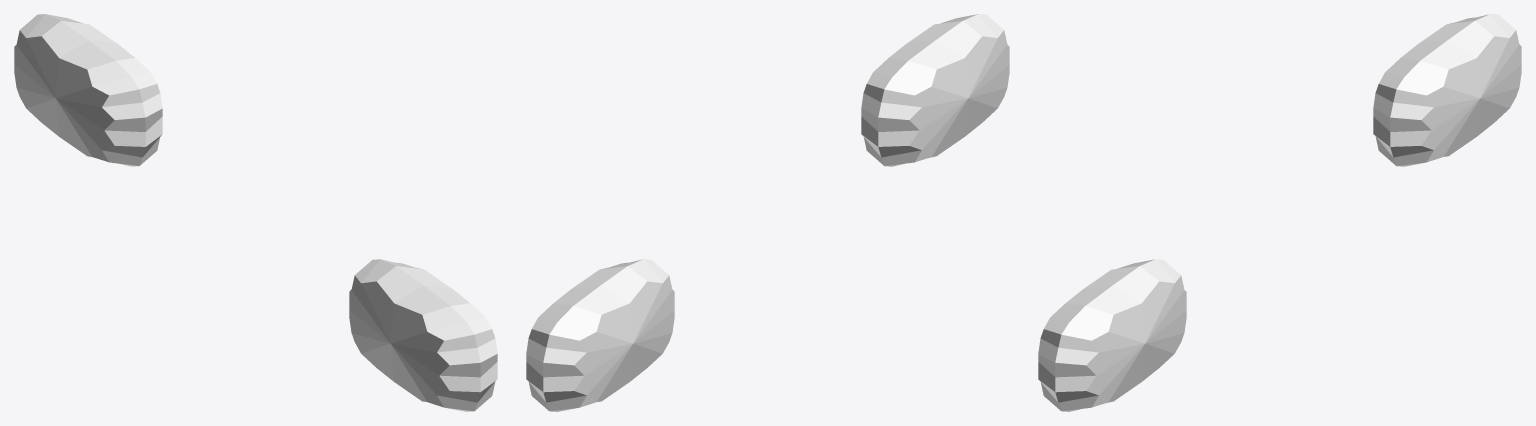
The model's file is InsideSeats2.glb.
3 views of the same model, side by side, from view 1: azimuth 30°, elevation 25°; view 2: azimuth 150°, elevation 25°; view 3: azimuth 330°, elevation 25° (orthographic).
Visible parts, largest first — view 1: Cube.014; view 2: Cube.014; view 3: Cube.014.
Boxes of the visible parts, left/top/right/bottom form: Cube.014: left=14, top=14, right=497, bottom=411; Cube.014: left=526, top=14, right=1009, bottom=411; Cube.014: left=1038, top=14, right=1521, bottom=411.
Bounding box in the file's own units: 0.00316 × 0.00461 × 0.0376.
Materials: 1 (1 with a texture image).
